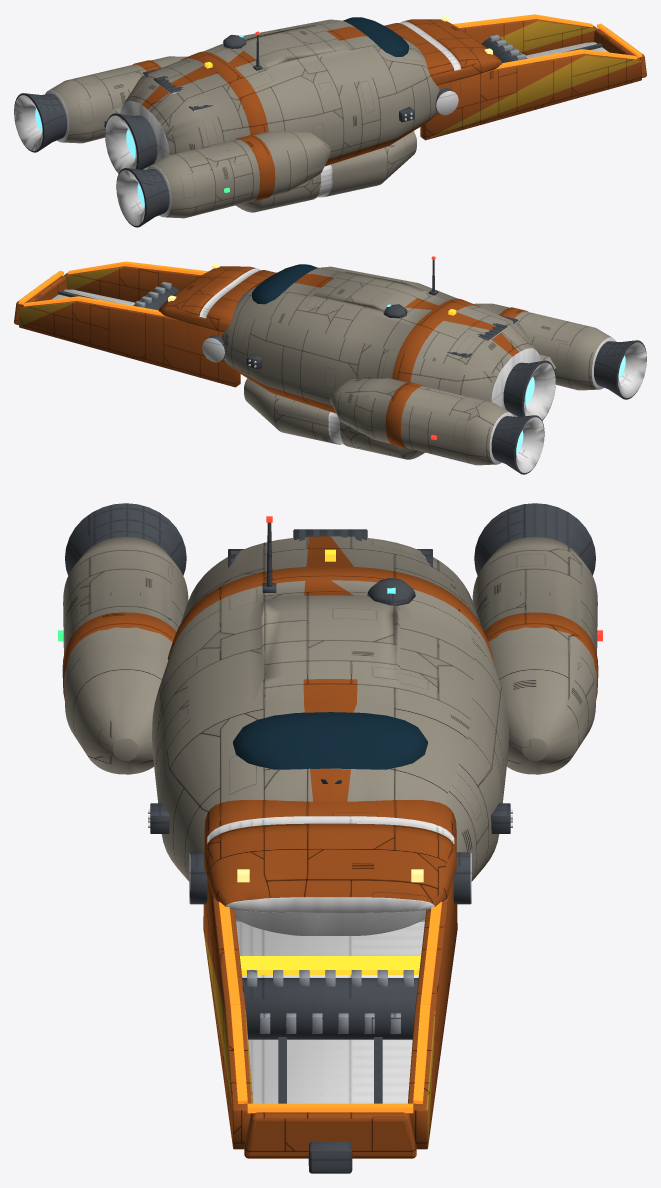
File: pelican_production_v1_lod1.glb
The picture shows the model from 3 angles, top to bottom: view 1: azimuth 30°, elevation 25°; view 2: azimuth 150°, elevation 25°; view 3: azimuth 270°, elevation 25°; orthographic projection. The views are drawn at different scales.
Visible parts, largest first — view 1: LOD0_MOTION_HULL_CORE_Hull, LOD0_MOTION_HULL_CORE_Armor, LOD0_MOTION_HULL_CORE_MechanicalDark, LOD0_MOTION_HULL_CORE_Mechanical, LOD0_MOTION_HULL_CORE_Warning, LOD0_MOTION_HULL_CORE_Livery, LOD0_MOTION_HULL_CORE_Lights_Cyan_bill, LOD0_MOTION_HULL_CORE_CANOPY, LOD0_MOTION_HULL_CORE_HOOK_DRIVE_CORE, LOD0_MOTION_HULL_CORE_BrushedMetal; view 2: LOD0_MOTION_HULL_CORE_Hull, LOD0_MOTION_HULL_CORE_Armor, LOD0_MOTION_HULL_CORE_MechanicalDark, LOD0_MOTION_HULL_CORE_Mechanical, LOD0_MOTION_HULL_CORE_Livery, LOD0_MOTION_HULL_CORE_Lights_Cyan_bill, LOD0_MOTION_HULL_CORE_CANOPY, LOD0_MOTION_HULL_CORE_Warning, LOD0_MOTION_HULL_CORE_HOOK_DRIVE_CORE, LOD0_MOTION_HULL_CORE_BrushedMetal; view 3: LOD0_MOTION_HULL_CORE_Hull, LOD0_MOTION_HULL_CORE_Armor, LOD0_MOTION_HULL_CORE_Mechanical, LOD0_MOTION_HULL_CORE_MechanicalDark, LOD0_MOTION_HULL_CORE_Livery, LOD0_MOTION_HULL_CORE_CANOPY, LOD0_MOTION_HULL_CORE_Lights_Cyan_bill, LOD0_MOTION_HULL_CORE_Beacon_Amber, LOD0_MOTION_HULL_CORE_BrushedMetal, LOD0_MOTION_HULL_CORE_Warning, LOD0_MOTION_HULL_CORE_HOOK_SENSOR_DOME_Mechanical.
Part boxes in pixels (x1,y1,x2,y2): LOD0_MOTION_HULL_CORE_Hull: (49, 19, 439, 218); LOD0_MOTION_HULL_CORE_Armor: (324, 19, 646, 166); LOD0_MOTION_HULL_CORE_MechanicalDark: (14, 21, 608, 225); LOD0_MOTION_HULL_CORE_Mechanical: (14, 38, 602, 227); LOD0_MOTION_HULL_CORE_Warning: (426, 20, 641, 139); LOD0_MOTION_HULL_CORE_Livery: (132, 26, 412, 201); LOD0_MOTION_HULL_CORE_Lights_Cyan_bill: (452, 14, 642, 69); LOD0_MOTION_HULL_CORE_CANOPY: (343, 17, 408, 56); LOD0_MOTION_HULL_CORE_HOOK_DRIVE_CORE: (35, 108, 144, 207); LOD0_MOTION_HULL_CORE_BrushedMetal: (489, 34, 527, 60); LOD0_MOTION_HULL_CORE_Hull: (221, 266, 611, 465); LOD0_MOTION_HULL_CORE_Armor: (14, 266, 335, 413); LOD0_MOTION_HULL_CORE_MechanicalDark: (52, 268, 646, 472); LOD0_MOTION_HULL_CORE_Mechanical: (58, 285, 646, 474); LOD0_MOTION_HULL_CORE_Livery: (248, 273, 528, 448); LOD0_MOTION_HULL_CORE_Lights_Cyan_bill: (18, 261, 207, 316); LOD0_MOTION_HULL_CORE_CANOPY: (252, 264, 317, 304); LOD0_MOTION_HULL_CORE_Warning: (19, 267, 122, 326); LOD0_MOTION_HULL_CORE_HOOK_DRIVE_CORE: (516, 355, 625, 454); LOD0_MOTION_HULL_CORE_BrushedMetal: (133, 281, 171, 307); LOD0_MOTION_HULL_CORE_Hull: (63, 536, 597, 921); LOD0_MOTION_HULL_CORE_Armor: (172, 799, 488, 1158); LOD0_MOTION_HULL_CORE_Mechanical: (65, 503, 595, 1173); LOD0_MOTION_HULL_CORE_MechanicalDark: (148, 809, 512, 1103); LOD0_MOTION_HULL_CORE_Livery: (62, 536, 598, 801); LOD0_MOTION_HULL_CORE_CANOPY: (233, 712, 427, 783); LOD0_MOTION_HULL_CORE_Lights_Cyan_bill: (219, 901, 442, 1113); LOD0_MOTION_HULL_CORE_Beacon_Amber: (240, 549, 420, 974); LOD0_MOTION_HULL_CORE_BrushedMetal: (247, 970, 413, 1033); LOD0_MOTION_HULL_CORE_Warning: (203, 932, 435, 1146); LOD0_MOTION_HULL_CORE_HOOK_SENSOR_DOME_Mechanical: (367, 578, 415, 605).
Size of what is drawn, in the model's own units: 14.71 by 4.63 by 6.26.
15 materials, 7 textured.
